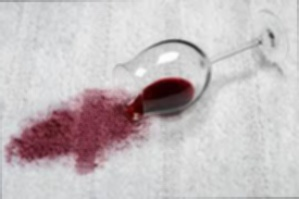wine: (15, 88, 147, 176)
